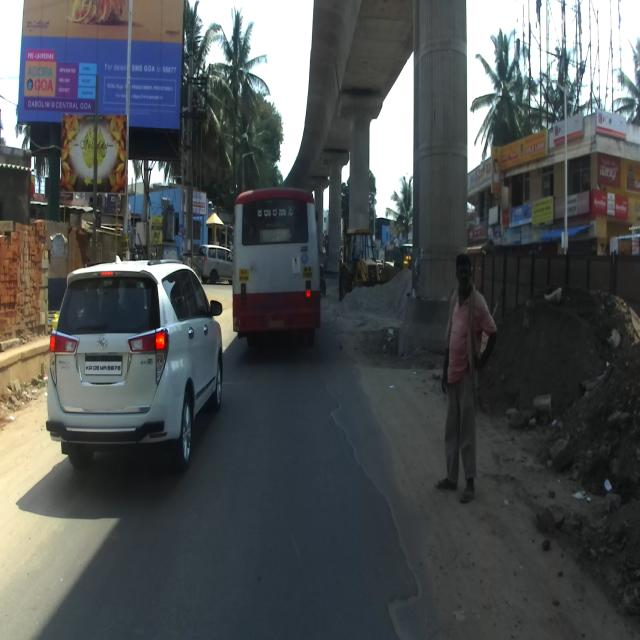bus ahead at: (232, 186, 320, 340)
car ahead at: (51, 257, 226, 469)
person ahead at: (438, 252, 499, 500)
